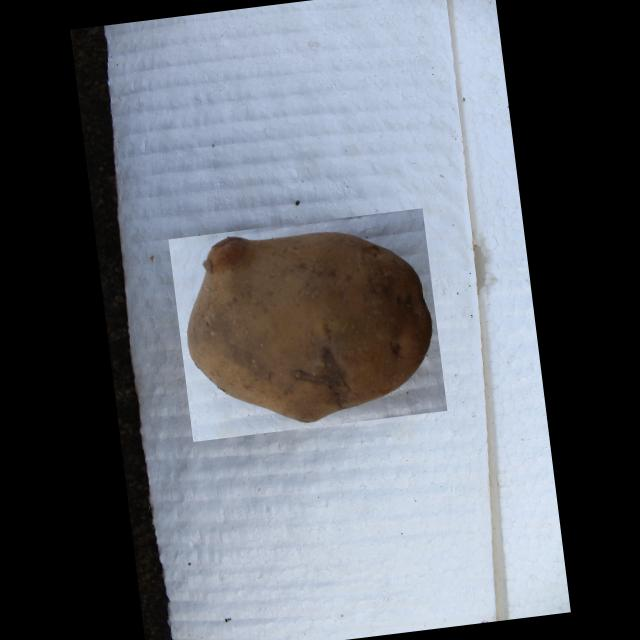Diseased-fungal potato: (168, 207, 447, 440)
